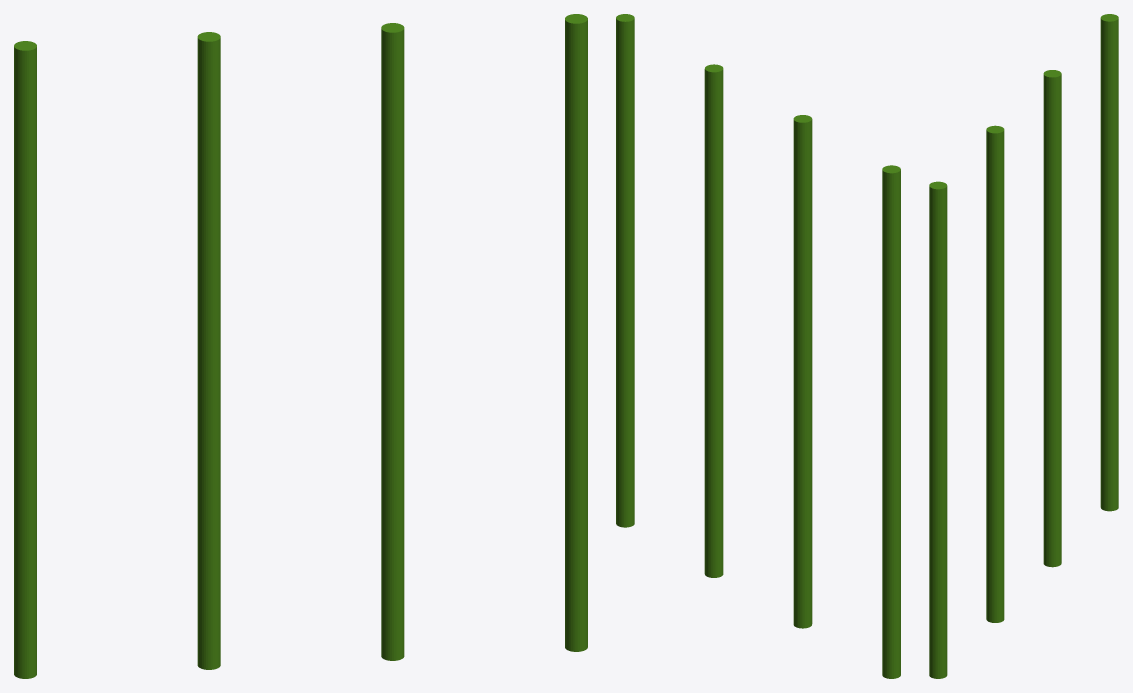
Rendered from Bamboo (2.1, 7.5, 0.3).glb.
3 views of the same model, side by side, from view 1: azimuth 30°, elevation 25°; view 2: azimuth 150°, elevation 25°; view 3: azimuth 270°, elevation 25° (orthographic). The views are drawn at different scales.
Visible parts, largest first — view 1: Cylinder.002; view 2: Cylinder.002; view 3: Cylinder.002.
Boxes of the visible parts, box(x1,y1,x2,y2) form: Cylinder.002: box(14, 14, 587, 678); Cylinder.002: box(616, 14, 900, 678); Cylinder.002: box(929, 14, 1118, 678).
Size of the model in its own units: 2.3 by 3 by 1.05.
